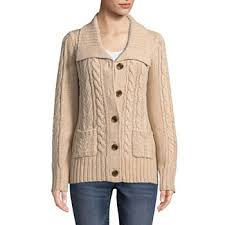S_cardigan sweater: (31, 20, 189, 194)
